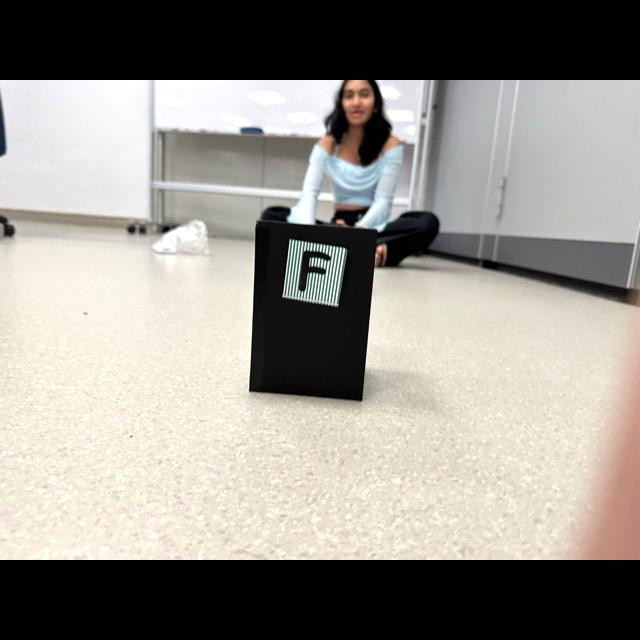F: (298, 251, 332, 293)
